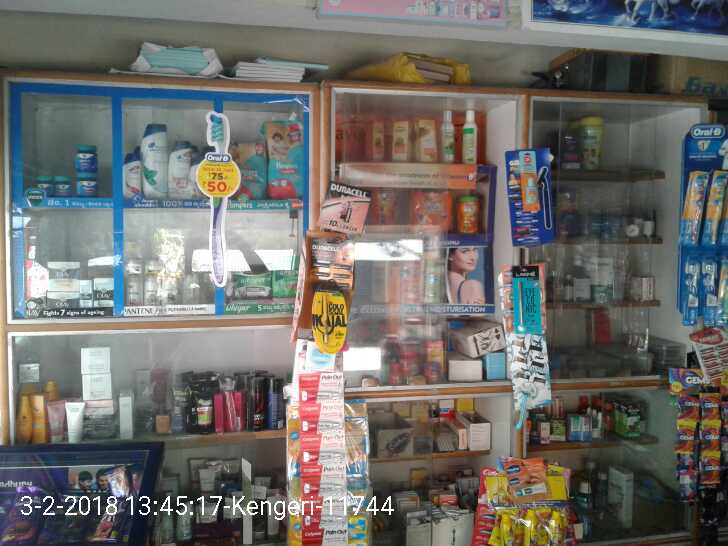beauty: (118, 249, 211, 308), (137, 124, 166, 194), (166, 137, 190, 193), (42, 267, 83, 294)
pharmacy: (268, 116, 314, 210), (221, 139, 266, 201), (229, 266, 270, 293), (73, 140, 101, 173), (77, 173, 99, 197), (54, 174, 74, 197), (37, 172, 51, 202)
